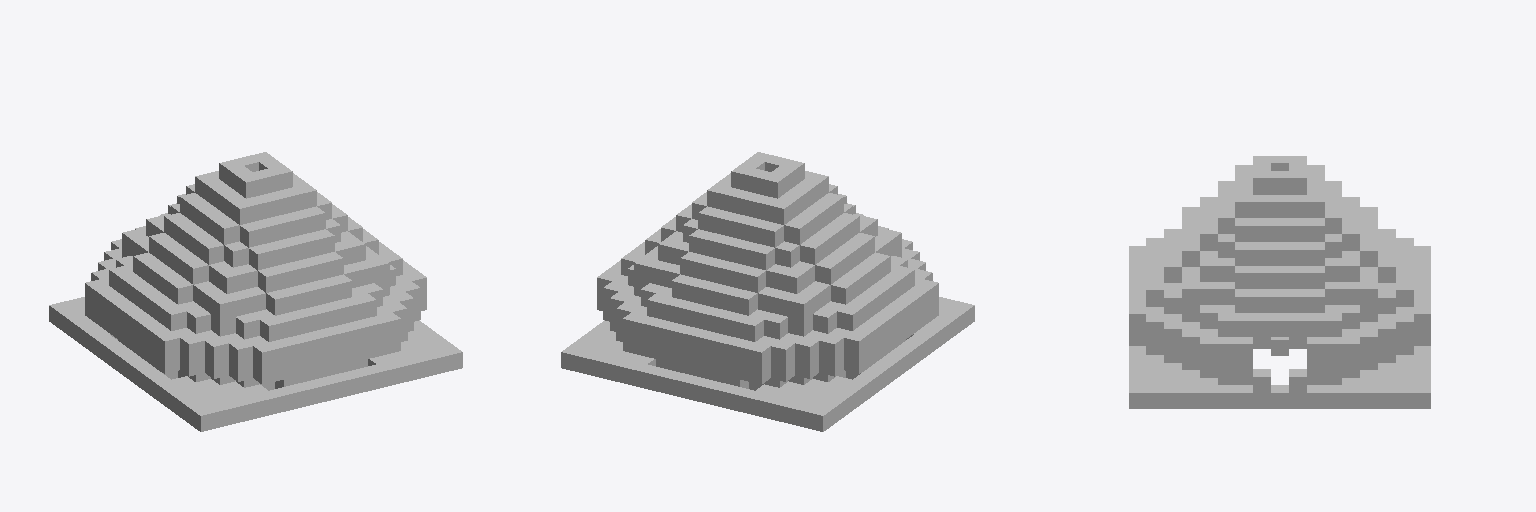
File: mesh_town_roundhouse.obj
3 renders of one model, left to right at view 1: azimuth 30°, elevation 25°; view 2: azimuth 150°, elevation 25°; view 3: azimuth 270°, elevation 25°, orthographic.
Bounding box in the file's own units: 0.5312 × 0.3438 × 0.5312.